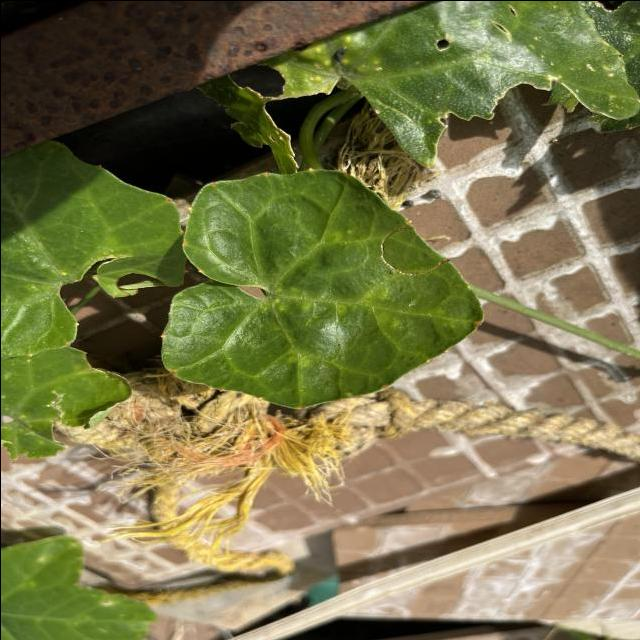Coccinia grandis: (156, 164, 486, 410)
